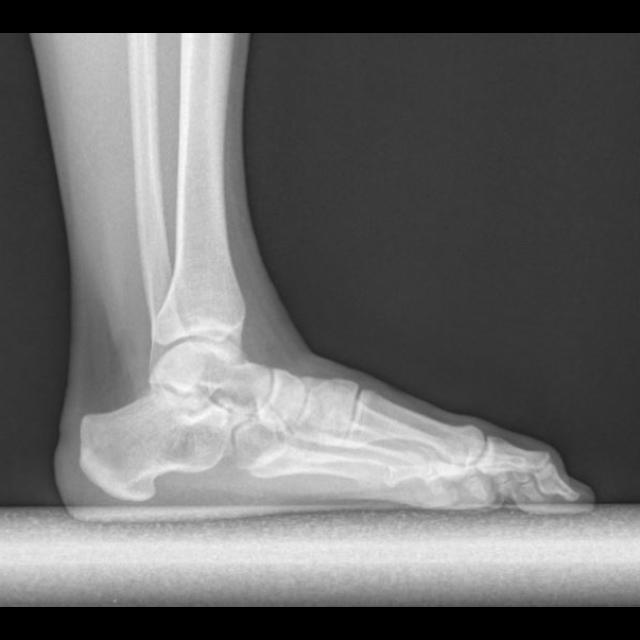a: (76, 382, 240, 500)
b: (253, 367, 307, 430)
c: (346, 388, 487, 469)
